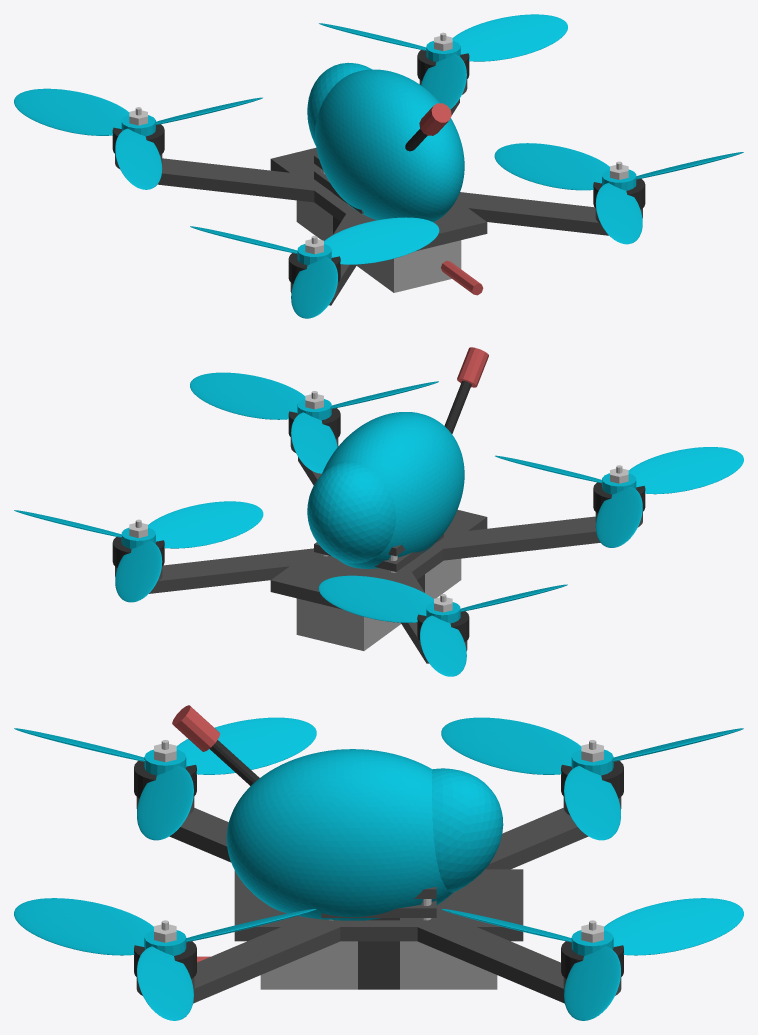
3 views of the same model, one above another, from view 1: azimuth 30°, elevation 25°; view 2: azimuth 150°, elevation 25°; view 3: azimuth 270°, elevation 25° (orthographic). The views are drawn at different scales.
Parts seen in each view (by area): view 1: mat_plastic_canopy, mat_carbon_frame, prop_mat_plastic_3, prop_mat_plastic_0, prop_mat_plastic_2, prop_mat_plastic_1, mat_batt_body, mat_plastic_antennatip, mat_wire_red; view 2: mat_plastic_canopy, mat_carbon_frame, prop_mat_plastic_1, prop_mat_plastic_2, prop_mat_plastic_3, prop_mat_plastic_0, mat_batt_body, mat_plastic_antennatip, mat_plastic_antenna, mat_board_1; view 3: mat_plastic_canopy, mat_carbon_frame, prop_mat_plastic_0, prop_mat_plastic_1, prop_mat_plastic_2, prop_mat_plastic_3, mat_batt_body, mat_fabric_strap, mat_plastic_antennatip, mat_board_1, mat_plastic_antenna, mat_metal_bell_2 (+3 smaller).
Boxes of the visible parts, <box> form: mat_plastic_canopy: <box>307,62,464,222</box>; mat_carbon_frame: <box>157,99,608,305</box>; prop_mat_plastic_3: <box>190,217,439,318</box>; prop_mat_plastic_0: <box>494,143,743,244</box>; prop_mat_plastic_2: <box>14,88,262,189</box>; prop_mat_plastic_1: <box>319,14,567,109</box>; mat_batt_body: <box>296,200,461,292</box>; mat_plastic_antennatip: <box>419,103,451,135</box>; mat_wire_red: <box>441,260,483,295</box>; mat_plastic_canopy: <box>307,412,464,568</box>; mat_carbon_frame: <box>149,457,600,663</box>; prop_mat_plastic_1: <box>14,501,263,602</box>; prop_mat_plastic_2: <box>318,575,567,676</box>; prop_mat_plastic_3: <box>495,447,743,547</box>; prop_mat_plastic_0: <box>190,372,438,473</box>; mat_batt_body: <box>296,558,461,650</box>; mat_plastic_antennatip: <box>457,347,488,387</box>; mat_plastic_antenna: <box>444,381,471,433</box>; mat_board_1: <box>314,533,443,571</box>; mat_plastic_canopy: <box>226,749,503,920</box>; mat_carbon_frame: <box>169,808,588,1003</box>; prop_mat_plastic_0: <box>14,898,316,1020</box>; prop_mat_plastic_1: <box>441,898,743,1020</box>; prop_mat_plastic_2: <box>441,717,743,840</box>; prop_mat_plastic_3: <box>14,717,316,840</box>; mat_batt_body: <box>260,941,497,989</box>; mat_fabric_strap: <box>358,918,399,989</box>; mat_plastic_antennatip: <box>172,705,220,751</box>; mat_board_1: <box>321,900,436,917</box>; mat_plastic_antenna: <box>209,740,259,785</box>; mat_metal_bell_2: <box>561,760,623,798</box>.
Size of the model in its own units: 0.1321 by 0.0529 by 0.139.
